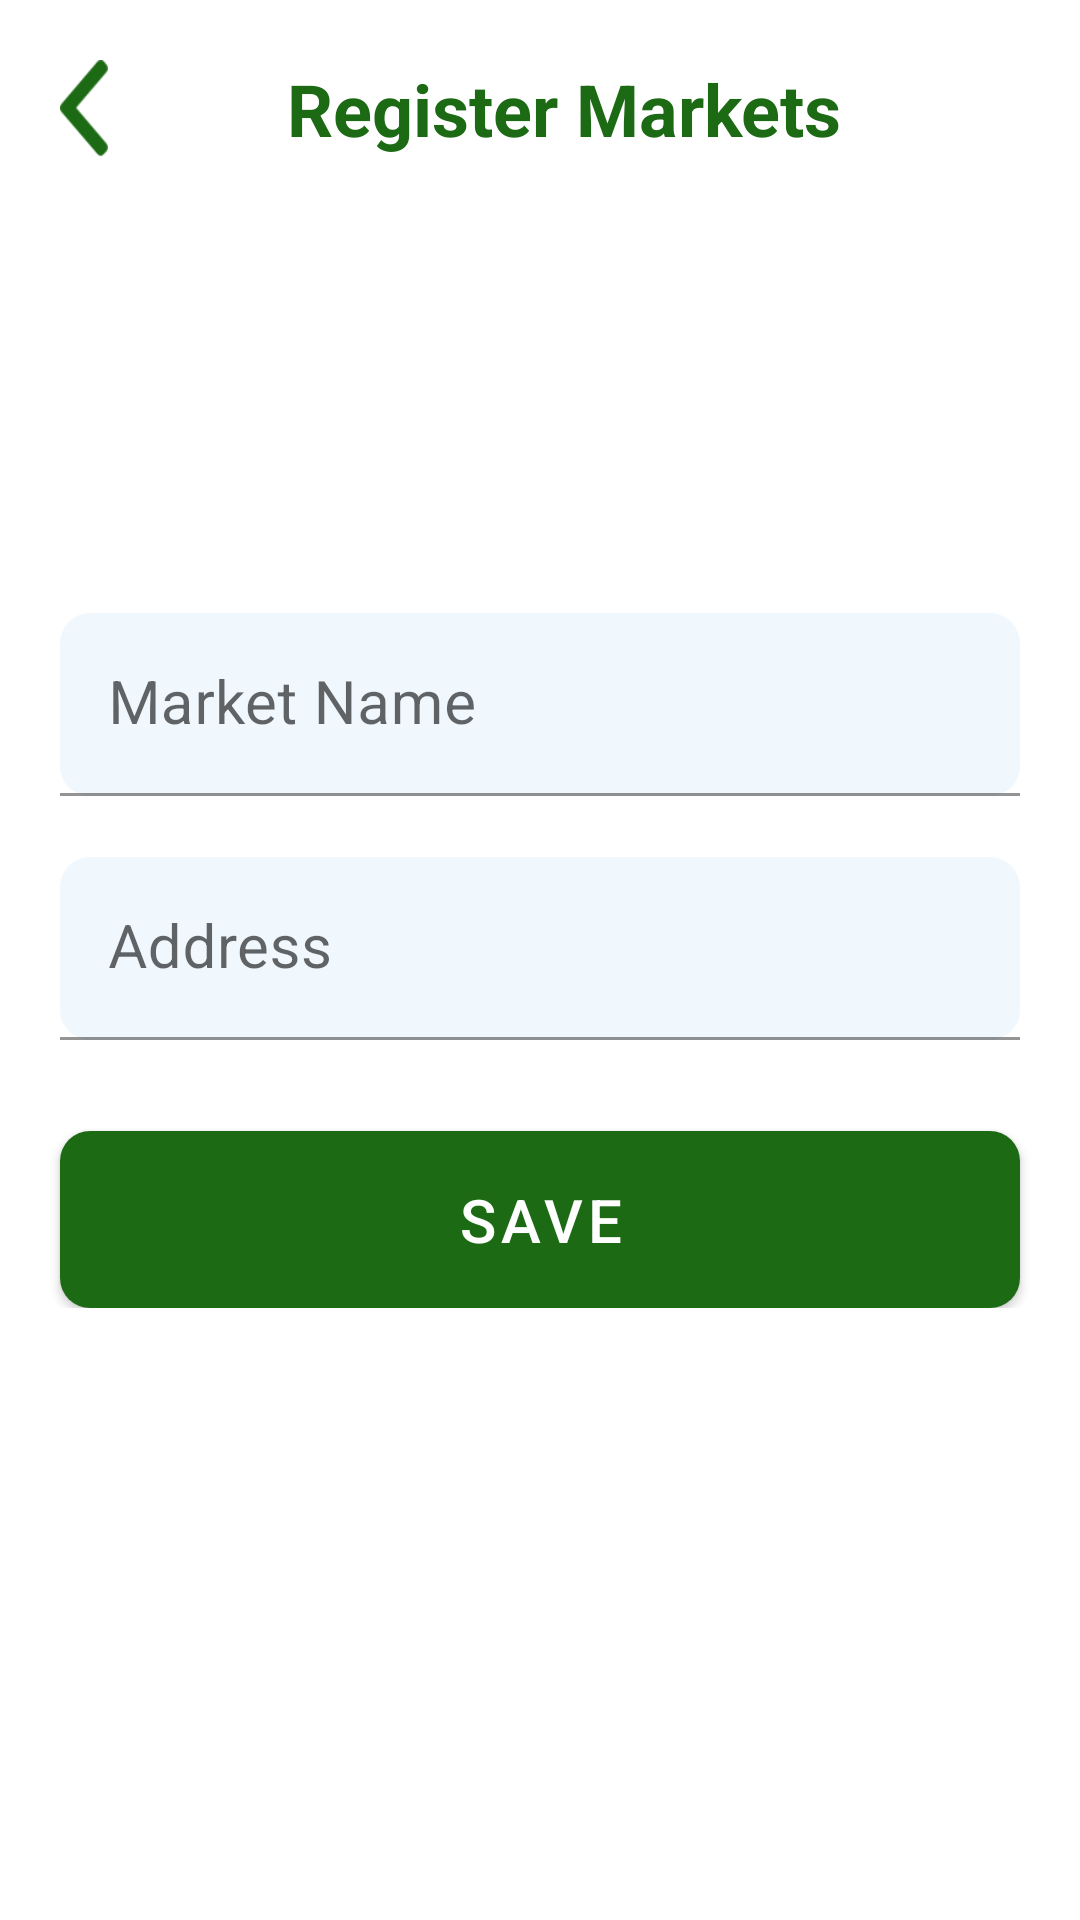

Icon bounding boxes for this 1080*1920 phone screenshot, format bbox(x1, y1, x2, y2):
backarrow: bbox(60, 60, 108, 156)
